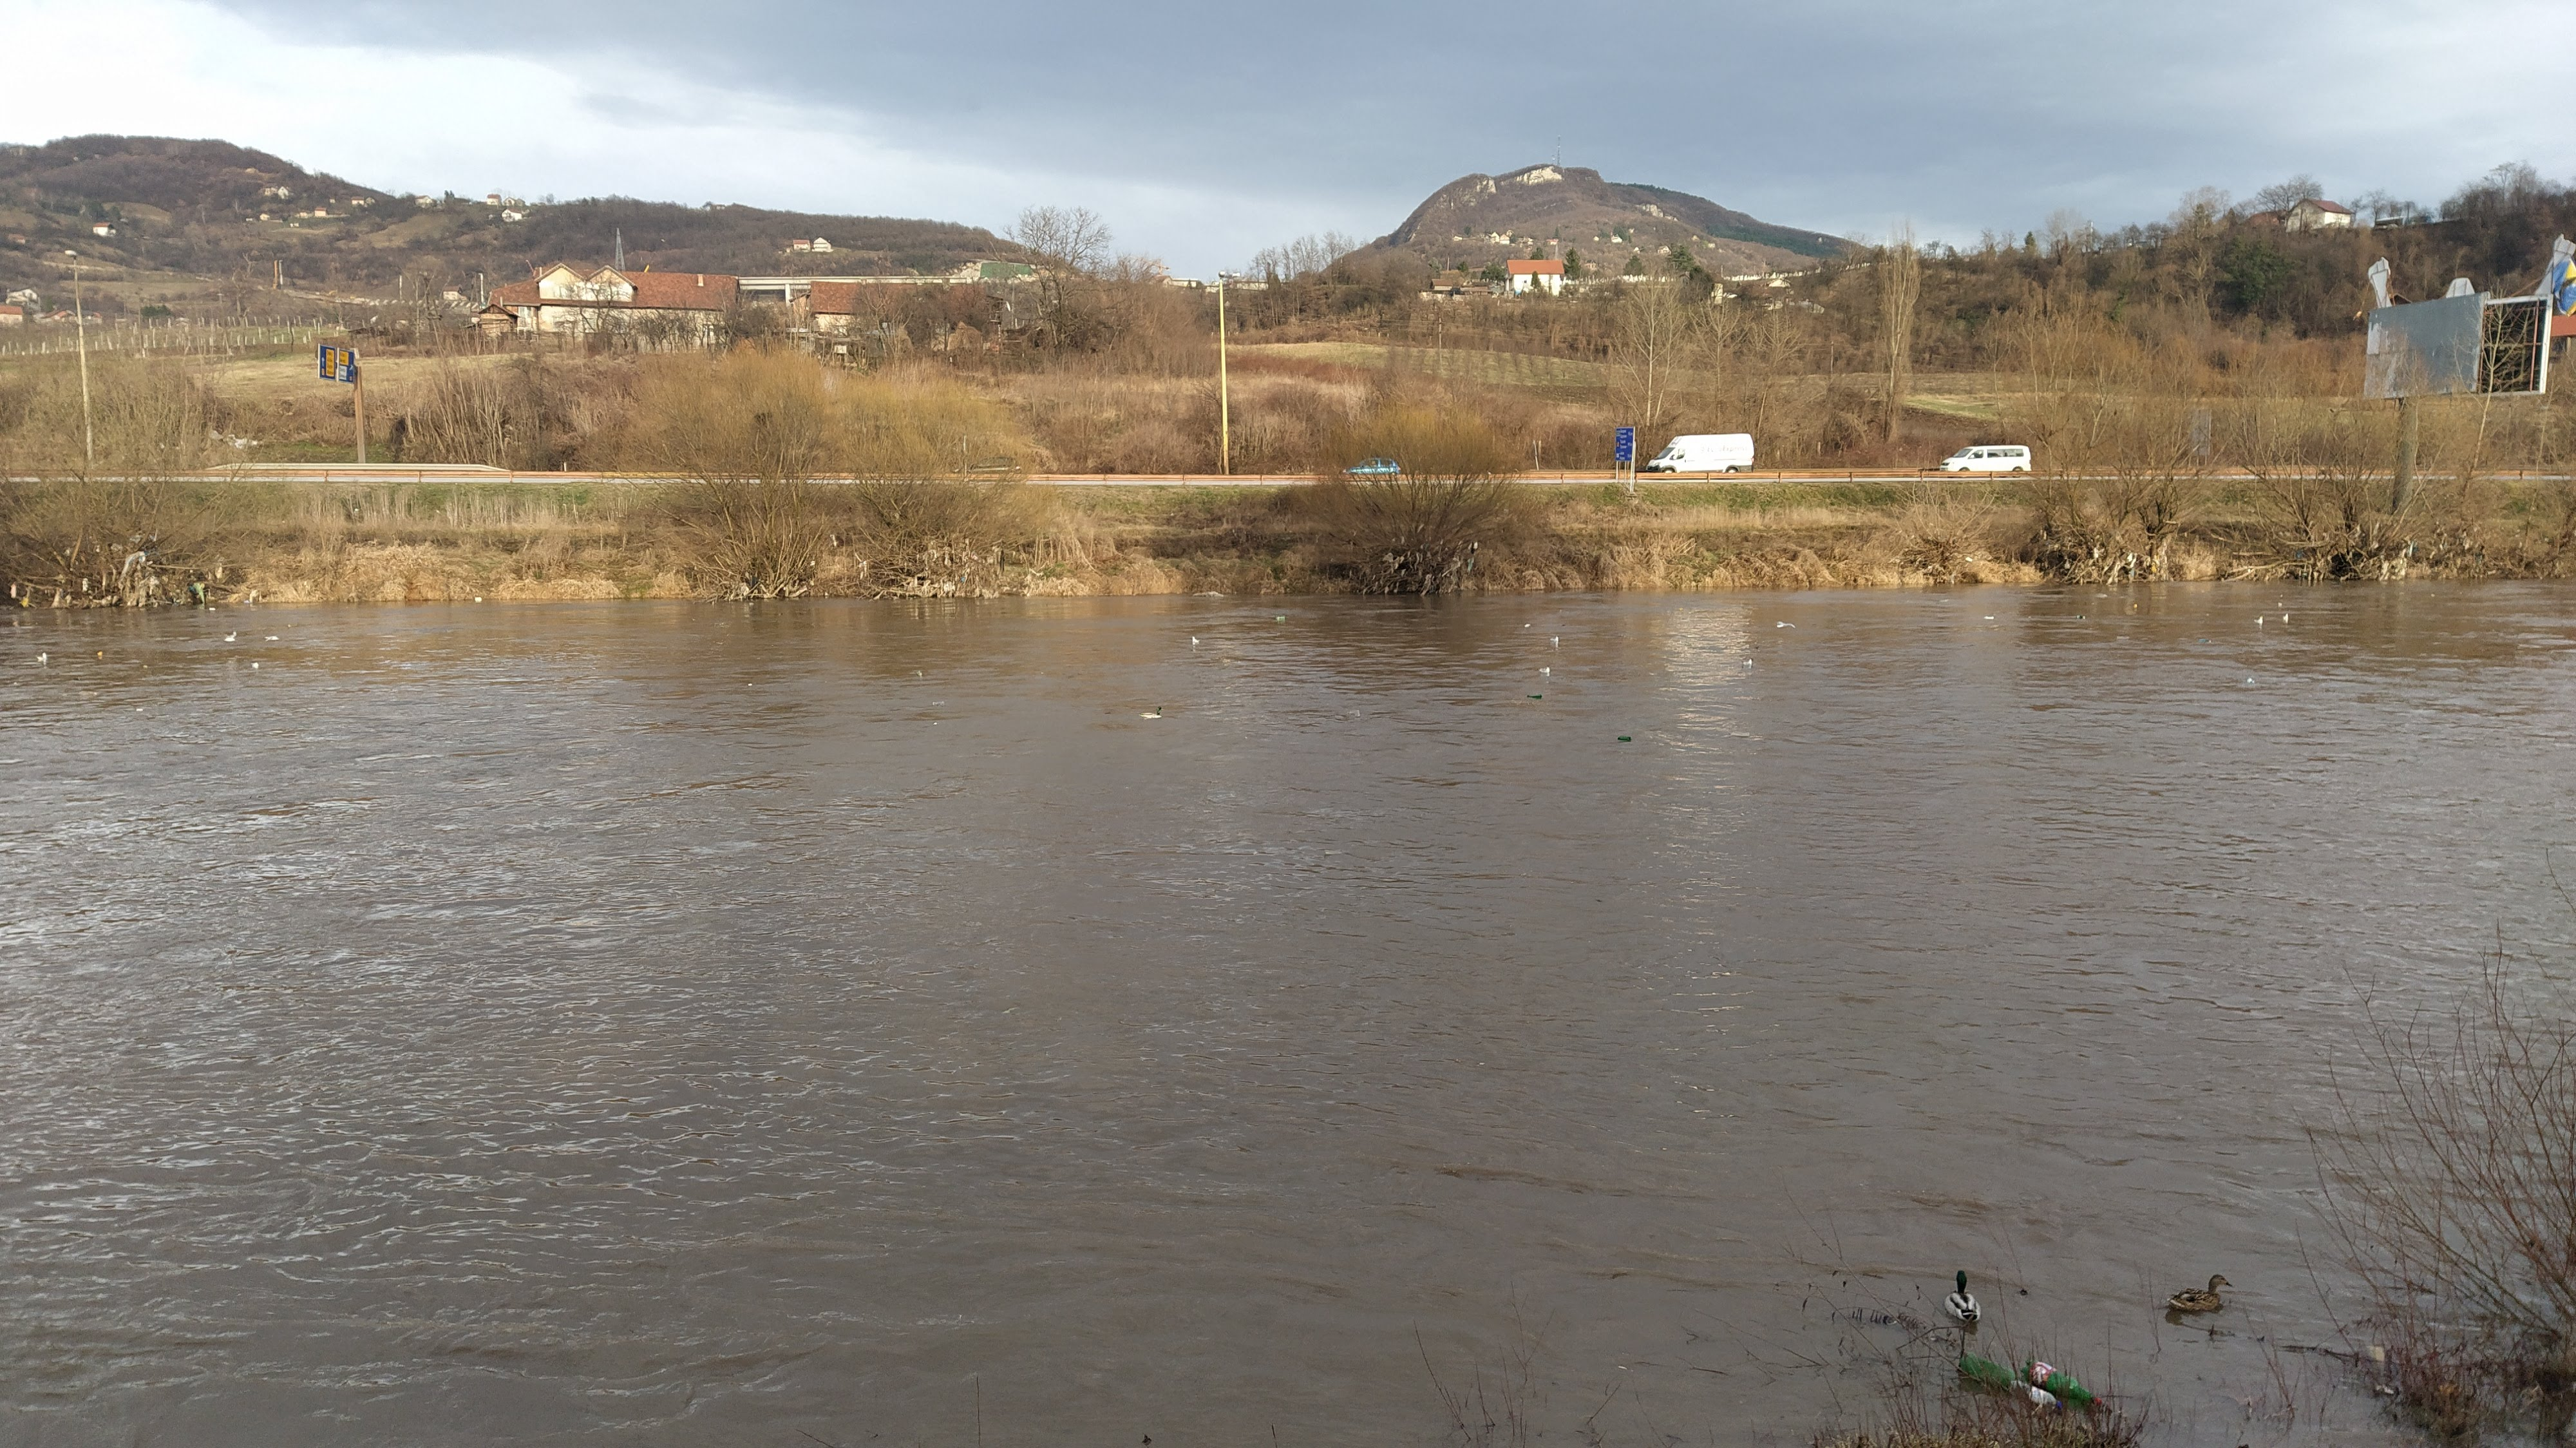Plastic Bottle: (2022, 1359, 2100, 1404), (1960, 1354, 2015, 1386), (2010, 1381, 2061, 1409), (1730, 731, 1750, 736), (931, 701, 945, 705), (1527, 694, 1541, 697), (1155, 706, 1161, 715), (2116, 635, 2128, 639), (1617, 736, 1628, 740), (2075, 616, 2086, 620), (2199, 639, 2210, 643), (2247, 678, 2254, 683), (1274, 616, 1283, 620), (916, 671, 922, 676), (97, 651, 103, 655), (136, 708, 142, 712), (1985, 616, 1994, 618)
